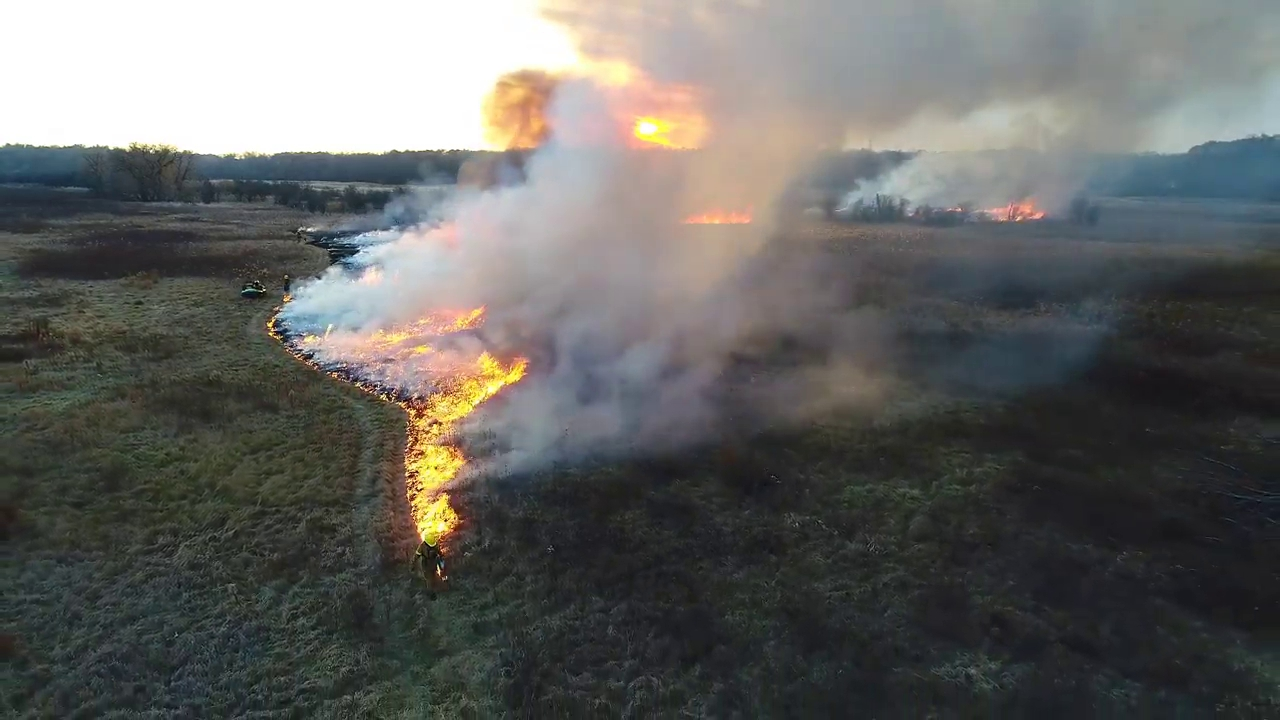forest_fire: (268, 307, 528, 539), (973, 202, 1044, 221), (684, 211, 751, 224)
